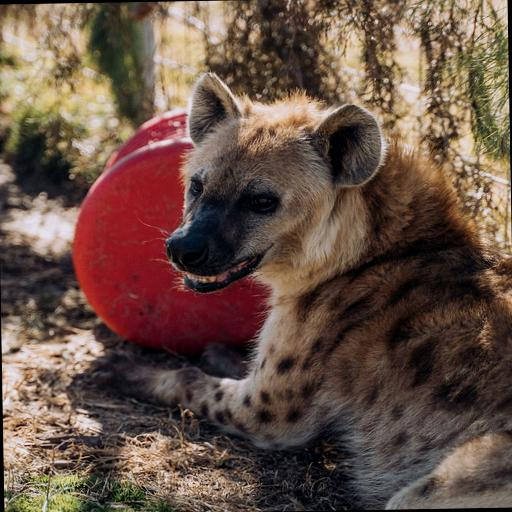hyenas: (70, 64, 512, 512)
